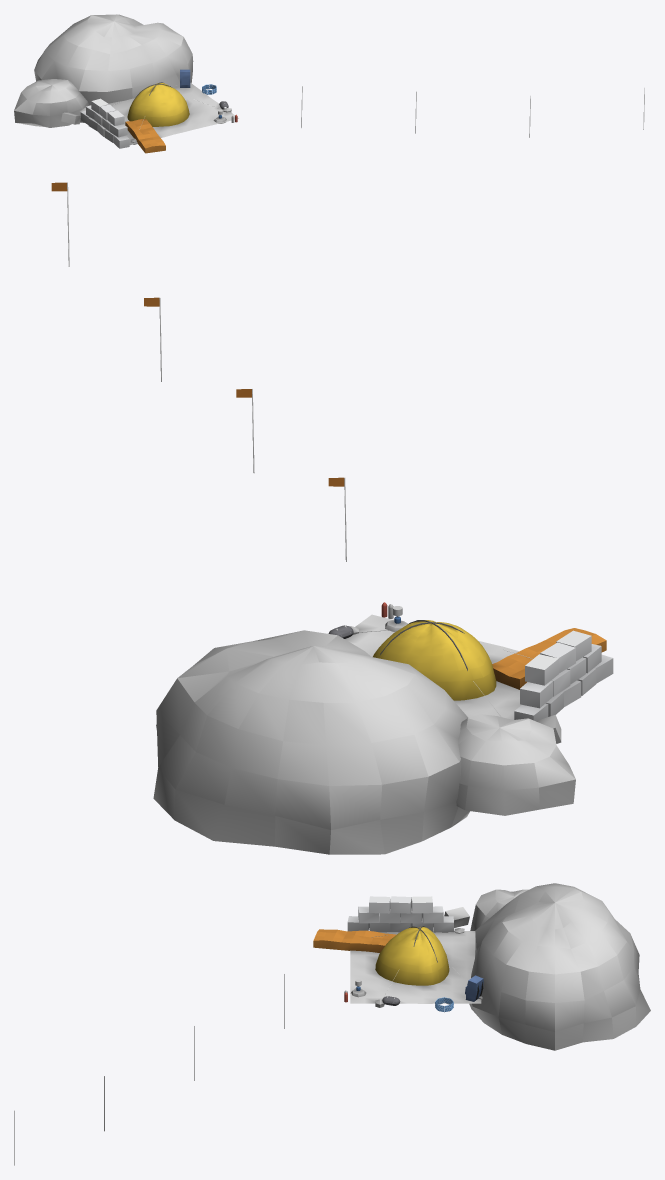
Rendered from owens_bivouac.glb.
3 renders of one model, top to bottom at view 1: azimuth 30°, elevation 25°; view 2: azimuth 150°, elevation 25°; view 3: azimuth 270°, elevation 25°, orthographic. The views are drawn at different scales.
Parts seen in each view (by area): view 1: main, detail; view 2: main, detail; view 3: main, detail.
Part boxes in pixels (left/top/right/bottom): main: left=14, top=14, right=238, bottom=153; detail: left=61, top=69, right=644, bottom=144; main: left=153, top=614, right=613, bottom=854; detail: left=51, top=182, right=561, bottom=743; main: left=313, top=883, right=650, bottom=1050; detail: left=14, top=907, right=483, bottom=1165.
Bounding box in the file's own units: 16.83 × 2.98 × 15.55.
